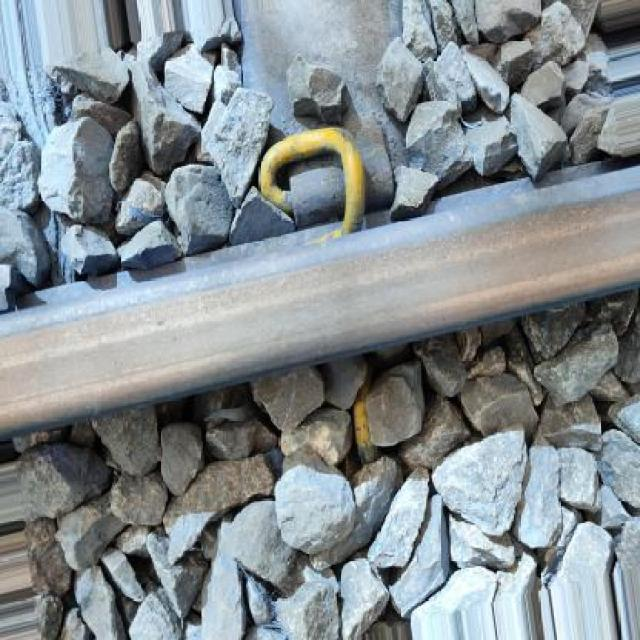non-defective: (1, 144, 640, 521)
